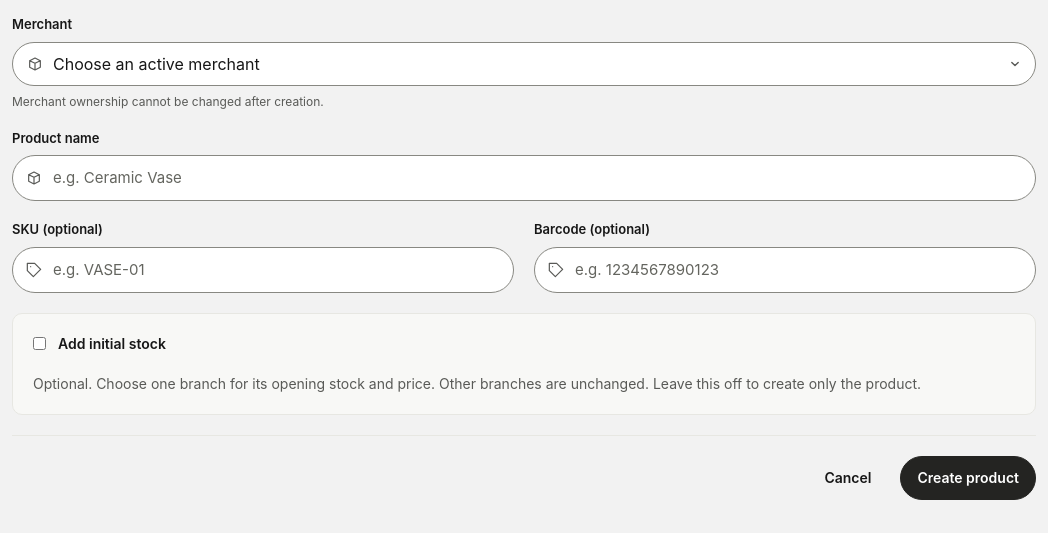
Test: Optional new-product opening stock › ignores branch results after the opening section is disabled
Click the checkbox.
click(40, 344)  # box x1=33 y1=337 x2=46 y2=350
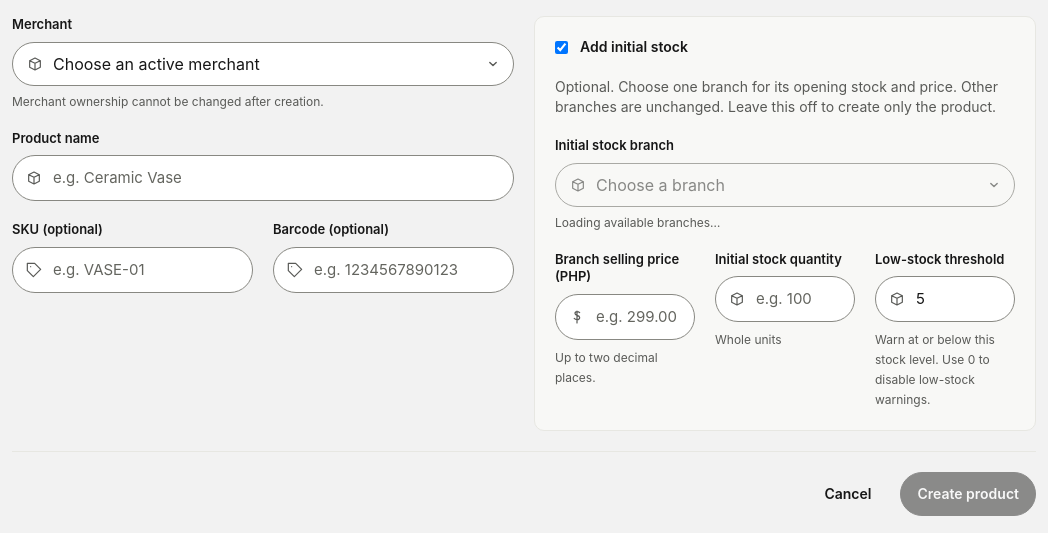
Click the checkbox.
click(562, 47)  # box x1=555 y1=40 x2=568 y2=54
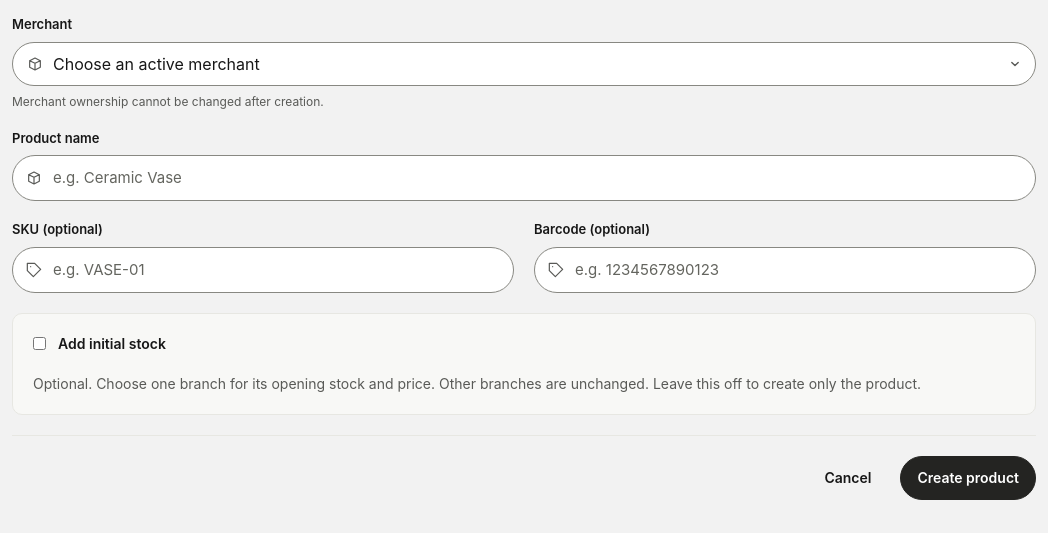
Check: the label "Initial stock branch" is gone
